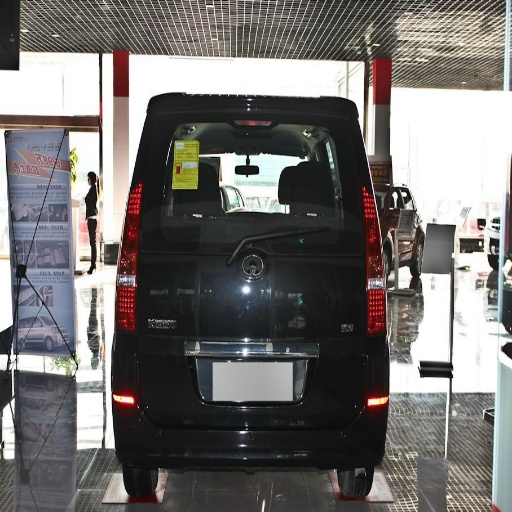back_bumper: (113, 386, 388, 502)
tailgate: (166, 352, 359, 433)
trunk: (138, 217, 375, 426)
